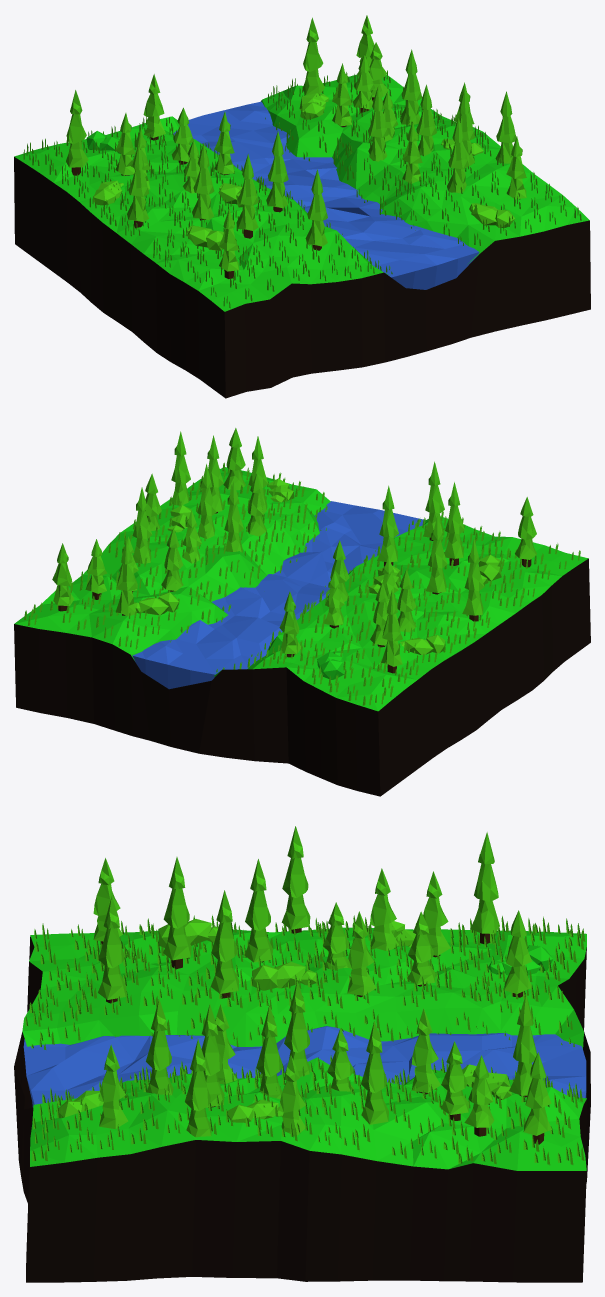
Rendered from low_poly_river.obj.
The picture shows the model from 3 angles, top to bottom: view 1: azimuth 30°, elevation 25°; view 2: azimuth 150°, elevation 25°; view 3: azimuth 270°, elevation 25°; orthographic projection. The views are drawn at different scales.
Parts seen in each view (by area): view 1: Plane003_Material007_0, Plane_Material001_0, Plane001_Material003_0, Cylinder006_Material002_0, Cylinder009_Material002_0, Cylinder003_Material002_0, Cylinder000_Material002_0, Cylinder026_Material002_0, Cylinder025_Material002_0, Cylinder012_Material002_0, Cylinder013_Material002_0, Cylinder022_Material002_0 (+20 smaller); view 2: Plane003_Material007_0, Plane_Material001_0, Plane001_Material003_0, Cylinder006_Material002_0, Cylinder012_Material002_0, Cylinder026_Material002_0, Cylinder000_Material002_0, Cylinder025_Material002_0, Cylinder003_Material002_0, Cylinder013_Material002_0, Cylinder017_Material002_0, Cylinder021_Material002_0 (+21 smaller); view 3: Plane003_Material007_0, Plane_Material001_0, Plane001_Material003_0, Cylinder009_Material002_0, Cylinder025_Material002_0, Cylinder003_Material002_0, Cylinder026_Material002_0, Cylinder000_Material002_0, Cylinder013_Material002_0, Cylinder006_Material002_0, Cylinder021_Material002_0, Cylinder022_Material002_0 (+25 smaller).
Part boxes in pixels (x1=…): Plane003_Material007_0: x1=14, y1=100, x2=590, y2=398; Plane_Material001_0: x1=14, y1=74, x2=589, y2=311; Plane001_Material003_0: x1=173, y1=101, x2=479, y2=289; Cylinder006_Material002_0: x1=66, y1=90, x2=88, y2=167; Cylinder009_Material002_0: x1=305, y1=169, x2=327, y2=246; Cylinder003_Material002_0: x1=266, y1=131, x2=288, y2=208; Cylinder000_Material002_0: x1=192, y1=143, x2=214, y2=219; Cylinder026_Material002_0: x1=127, y1=145, x2=149, y2=222; Cylinder025_Material002_0: x1=236, y1=154, x2=258, y2=230; Cylinder012_Material002_0: x1=303, y1=17, x2=324, y2=95; Cylinder013_Material002_0: x1=400, y1=49, x2=422, y2=125; Cylinder022_Material002_0: x1=447, y1=117, x2=469, y2=193; Plane003_Material007_0: x1=14, y1=558, x2=590, y2=796; Plane_Material001_0: x1=14, y1=467, x2=588, y2=711; Plane001_Material003_0: x1=132, y1=501, x2=423, y2=689; Cylinder006_Material002_0: x1=381, y1=589, x2=402, y2=666; Cylinder012_Material002_0: x1=115, y1=539, x2=137, y2=616; Cylinder026_Material002_0: x1=462, y1=539, x2=484, y2=615; Cylinder000_Material002_0: x1=425, y1=516, x2=447, y2=592; Cylinder025_Material002_0: x1=444, y1=482, x2=464, y2=558; Cylinder003_Material002_0: x1=377, y1=485, x2=398, y2=562; Cylinder013_Material002_0: x1=132, y1=487, x2=152, y2=563; Cylinder017_Material002_0: x1=197, y1=464, x2=216, y2=538; Cylinder021_Material002_0: x1=171, y1=431, x2=190, y2=505; Plane003_Material007_0: x1=14, y1=936, x2=590, y2=1282; Plane_Material001_0: x1=22, y1=927, x2=586, y2=1170; Plane001_Material003_0: x1=23, y1=1026, x2=586, y2=1107; Cylinder009_Material002_0: x1=98, y1=896, x2=126, y2=999; Cylinder025_Material002_0: x1=163, y1=857, x2=191, y2=960; Cylinder003_Material002_0: x1=210, y1=890, x2=239, y2=993; Cylinder026_Material002_0: x1=281, y1=826, x2=310, y2=929; Cylinder000_Material002_0: x1=244, y1=859, x2=272, y2=962; Cylinder013_Material002_0: x1=361, y1=1021, x2=388, y2=1124; Cylinder006_Material002_0: x1=470, y1=832, x2=499, y2=933; Cylinder021_Material002_0: x1=185, y1=1039, x2=211, y2=1137; Cylinder022_Material002_0: x1=146, y1=998, x2=173, y2=1095.
Size of the model in its own units: 15.73 by 7.45 by 16.06.
